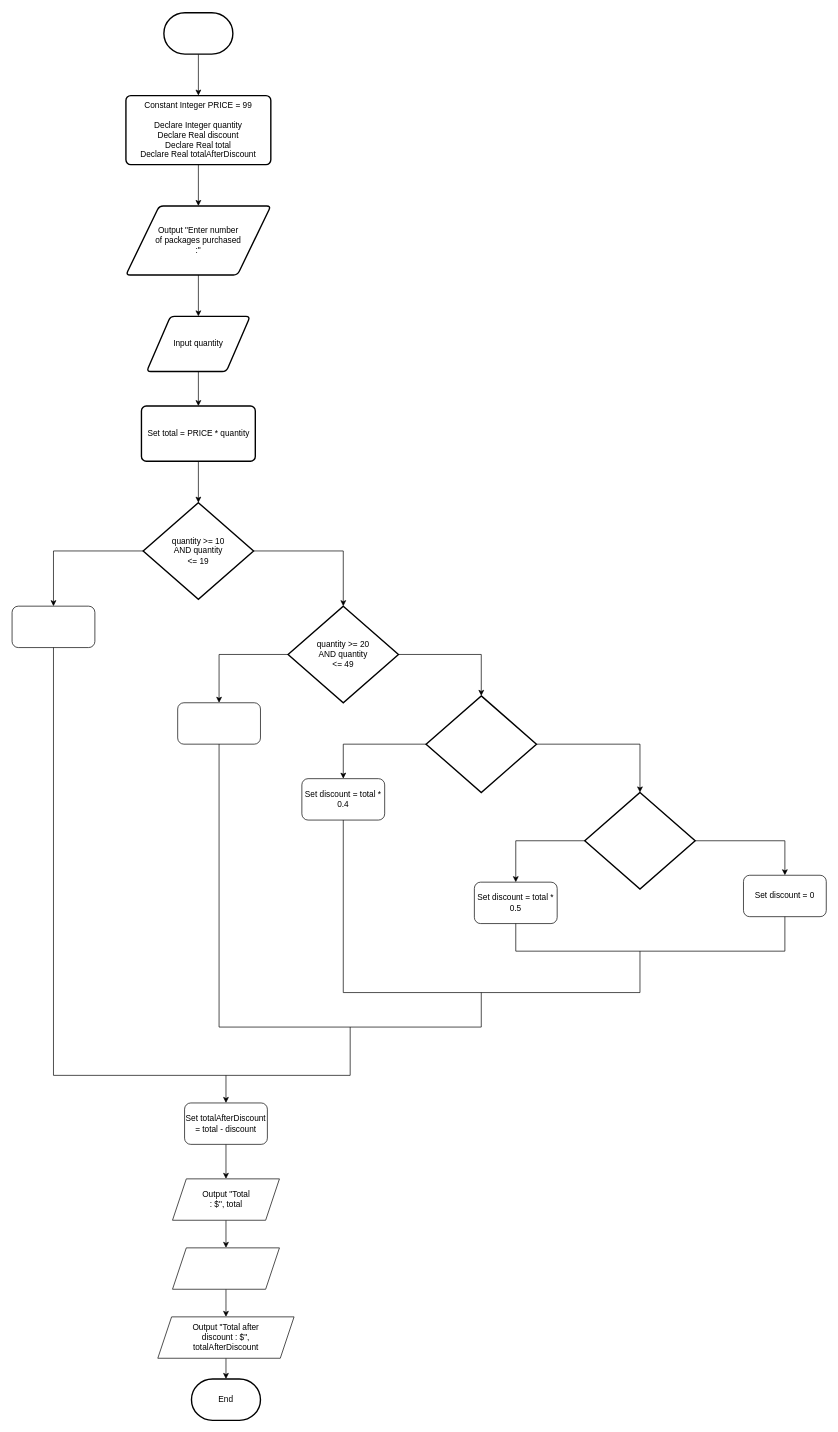
This 838x1432 diagram has some shape labels left out. The shapes that lost their labels are listed below. From the top down, each one's centre as x and y in pixels, then its label:
[198,33]: Start
[53,626]: Set discount = total * 0.2
[218,723]: Set discount = total * 0.3
[481,744]: quantity >= 50 AND quantity <= 99
[640,840]: quantity >= 100
[225,1268]: Output "Discount : $", discount
